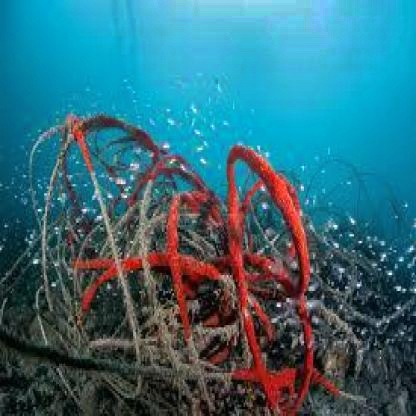net: (33, 118, 339, 416)
